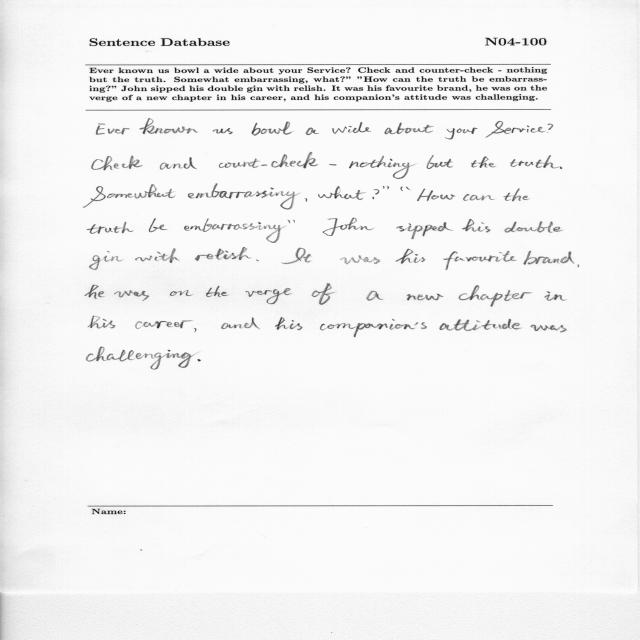word: (188, 184, 296, 210), (184, 218, 290, 243), (87, 347, 197, 370), (83, 184, 175, 208), (320, 319, 427, 337), (219, 152, 319, 169), (458, 285, 532, 307), (349, 156, 413, 179), (444, 251, 517, 270), (486, 121, 548, 138), (440, 319, 522, 331), (396, 222, 452, 239), (139, 119, 198, 135), (195, 247, 251, 261), (92, 156, 143, 171), (246, 288, 292, 304), (523, 251, 574, 265), (504, 221, 563, 233), (323, 218, 361, 236), (135, 248, 179, 263), (510, 156, 560, 169), (89, 251, 123, 270), (318, 186, 364, 200), (251, 121, 292, 136), (87, 222, 133, 234), (384, 123, 434, 134), (135, 320, 193, 329), (312, 283, 335, 305), (160, 157, 197, 170), (282, 248, 312, 264), (333, 122, 372, 134), (221, 318, 260, 330), (417, 189, 455, 201), (396, 249, 425, 264), (96, 123, 130, 135), (445, 128, 478, 140), (114, 290, 149, 301), (427, 155, 453, 169), (462, 219, 490, 232), (275, 317, 303, 330), (341, 255, 381, 264), (88, 316, 115, 329), (503, 189, 529, 202), (471, 156, 496, 168), (530, 325, 567, 333), (149, 218, 168, 232), (85, 285, 104, 299), (407, 294, 444, 301), (206, 286, 229, 297), (372, 186, 389, 199), (463, 194, 494, 201), (545, 291, 566, 301), (366, 291, 384, 301), (170, 290, 192, 296), (212, 128, 233, 134), (306, 128, 319, 135), (361, 226, 374, 230), (548, 124, 553, 130), (329, 164, 337, 166), (305, 198, 308, 202), (401, 187, 404, 191), (406, 187, 410, 190), (194, 328, 196, 332), (197, 359, 201, 361), (560, 167, 563, 169), (293, 220, 295, 223), (256, 260, 259, 262), (578, 265, 580, 268)
